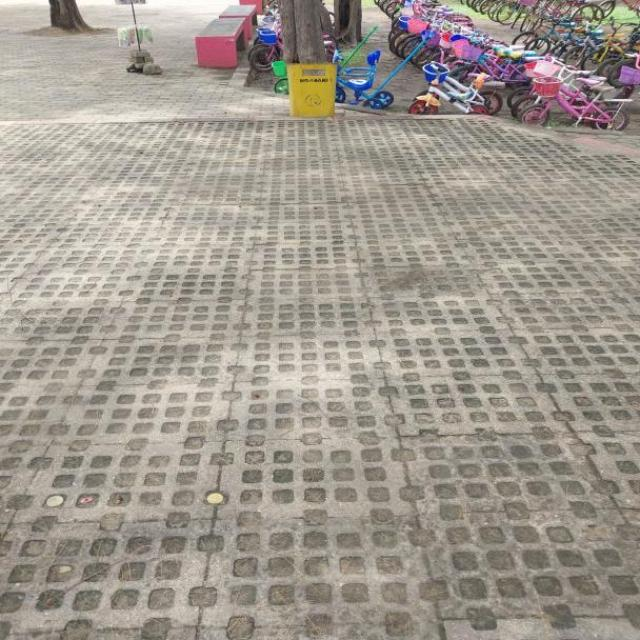bicycle ahead at: (528, 60, 640, 133)
dustbin ahead at: (288, 60, 339, 114)
